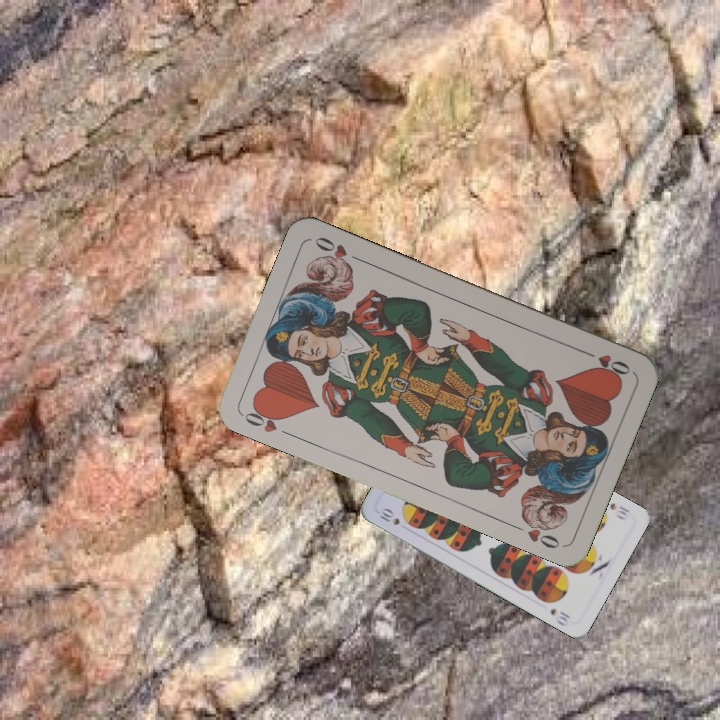HO: (238, 401, 295, 439), (578, 345, 633, 380)
S10: (606, 499, 632, 523), (376, 505, 402, 528)
